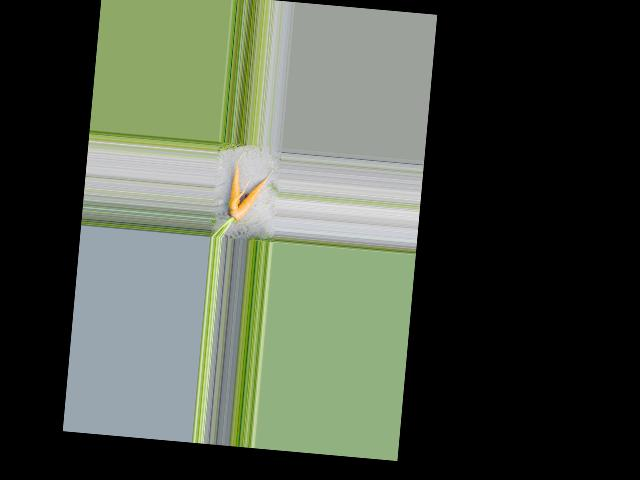carrot: (222, 151, 250, 214)
